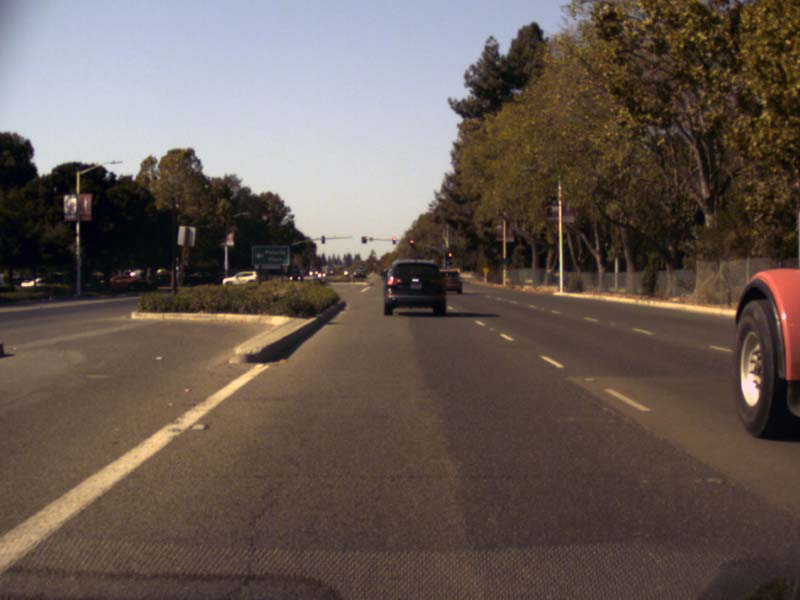Red: (448, 251, 452, 264), (409, 239, 413, 246), (392, 237, 395, 244)
